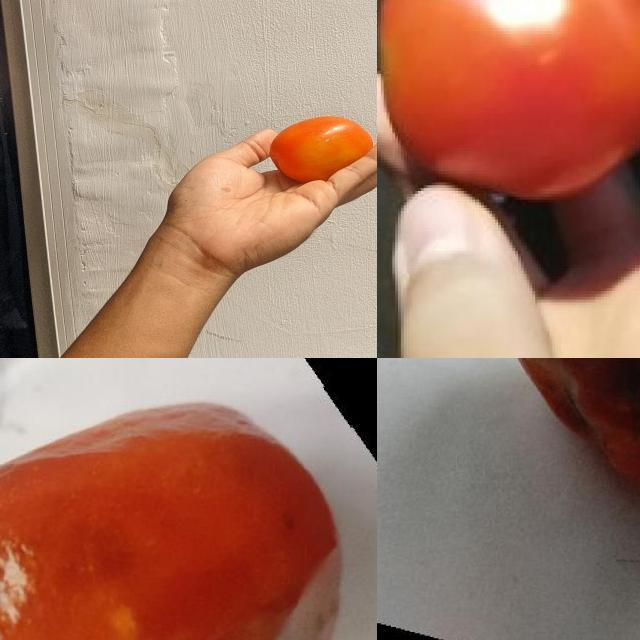Fresh Tomato: (377, 0, 640, 202), (260, 111, 377, 187)
Rotten Tomato: (0, 386, 352, 640), (461, 358, 640, 512)
